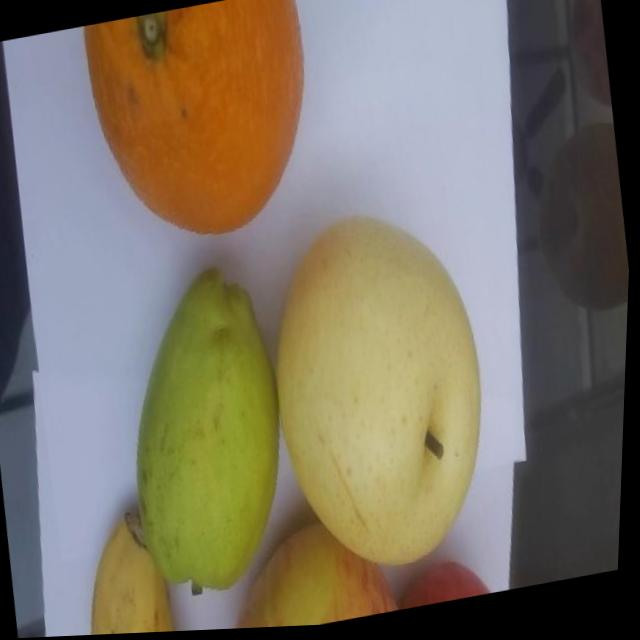Apple: (224, 512, 408, 632), (400, 559, 499, 614)
Banana: (78, 504, 189, 637)
Orange: (77, 0, 329, 259)
